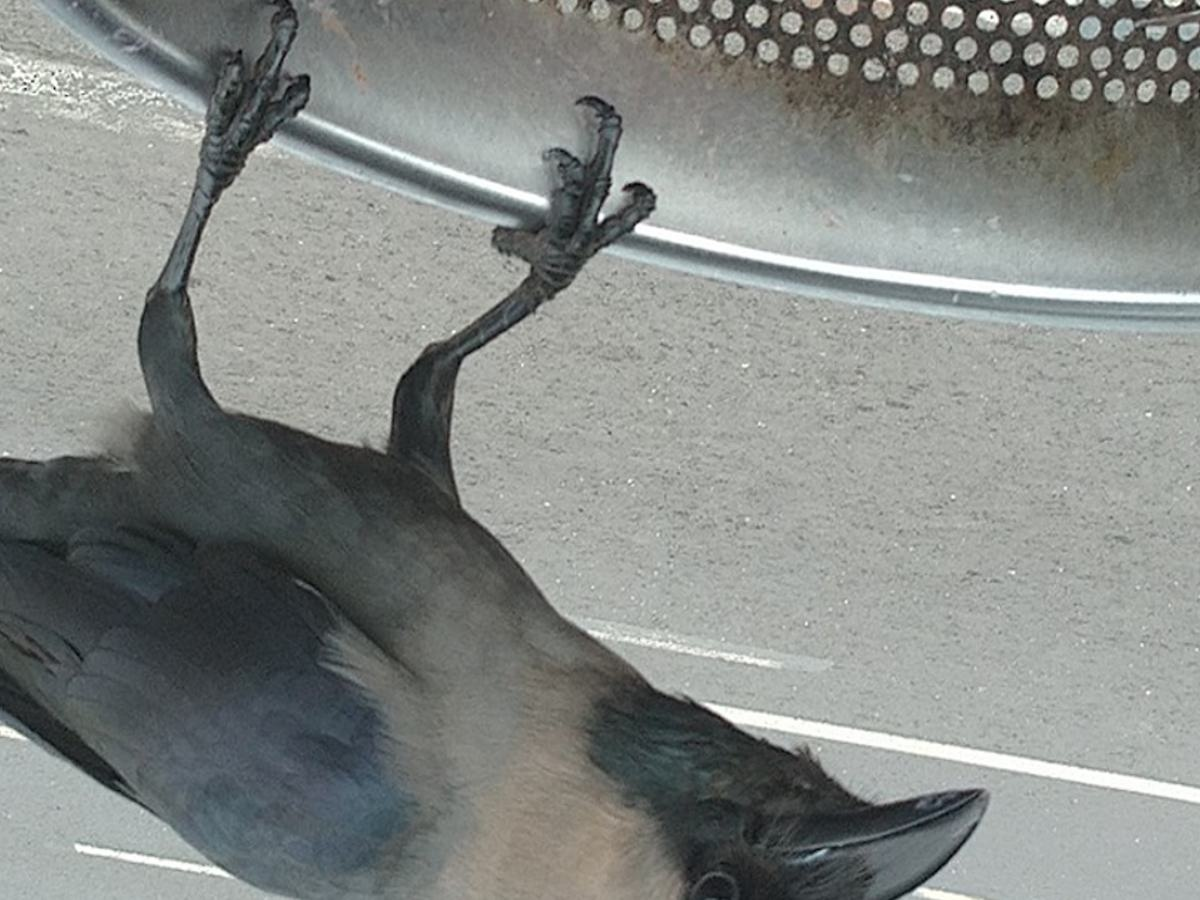crow: (1, 28, 981, 898)
